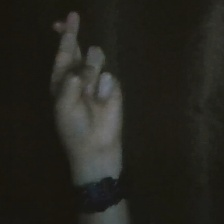R: (40, 5, 140, 160)
